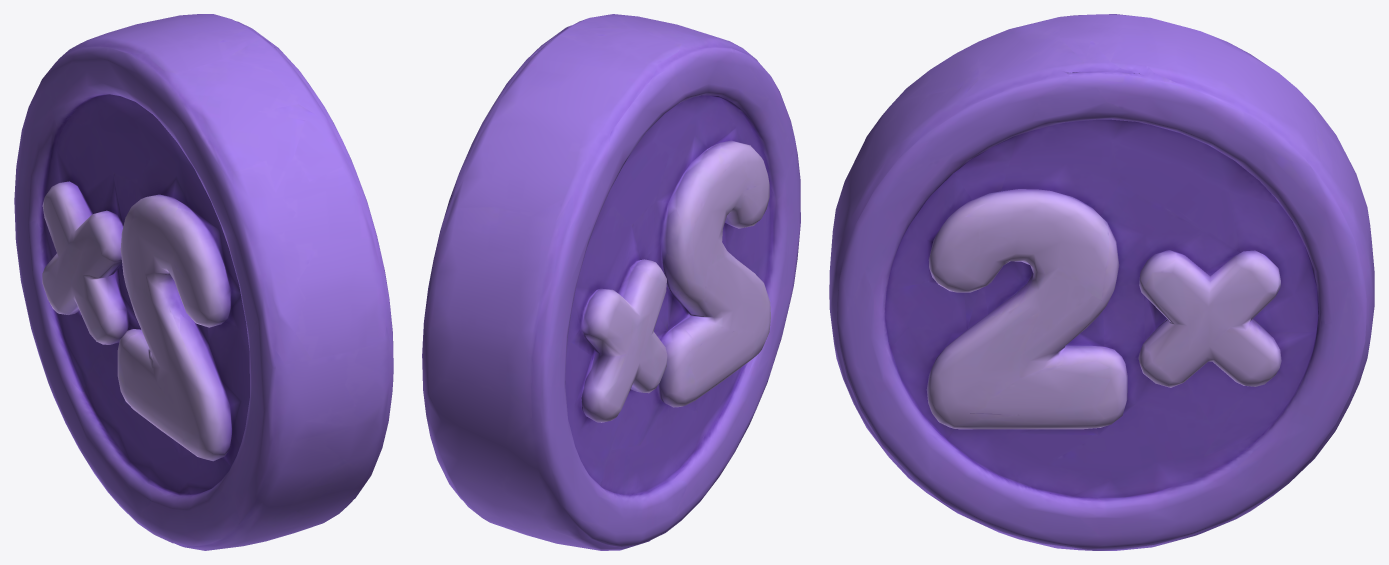
3 views of the same model, side by side, from view 1: azimuth 30°, elevation 25°; view 2: azimuth 150°, elevation 25°; view 3: azimuth 270°, elevation 25° (orthographic). The views are drawn at different scales.
Parts seen in each view (by area): view 1: tripo_node_efd88a6c-a3ef-44f4-bcad-eeaedb7002c7; view 2: tripo_node_efd88a6c-a3ef-44f4-bcad-eeaedb7002c7; view 3: tripo_node_efd88a6c-a3ef-44f4-bcad-eeaedb7002c7.
Part boxes in pixels (box(x1,y1,x2,y2)): tripo_node_efd88a6c-a3ef-44f4-bcad-eeaedb7002c7: box(14, 14, 393, 550); tripo_node_efd88a6c-a3ef-44f4-bcad-eeaedb7002c7: box(422, 14, 800, 550); tripo_node_efd88a6c-a3ef-44f4-bcad-eeaedb7002c7: box(829, 14, 1374, 550).
Bounding box in the file's own units: 0.3522 × 0.98 × 0.9786.
Materials: 1 (1 with a texture image).
